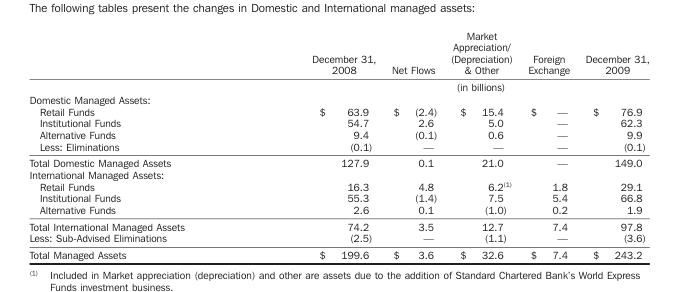table: (28, 28, 648, 260)
table column: (28, 28, 247, 260), (247, 28, 383, 260), (443, 28, 519, 260), (576, 28, 648, 260), (383, 28, 443, 260), (519, 28, 576, 260)
table column header: (28, 28, 648, 92)
table projected row header: (28, 92, 648, 105), (28, 168, 648, 180)
table row: (28, 28, 648, 78), (28, 231, 648, 246), (28, 78, 648, 92), (28, 140, 648, 154), (28, 154, 648, 168), (28, 203, 648, 217), (28, 217, 648, 231), (28, 246, 648, 260), (28, 92, 648, 105), (28, 116, 648, 128), (28, 128, 648, 140), (28, 168, 648, 180), (28, 191, 648, 203), (28, 105, 648, 116), (28, 180, 648, 191)
table spanning cell: (247, 78, 648, 92)
